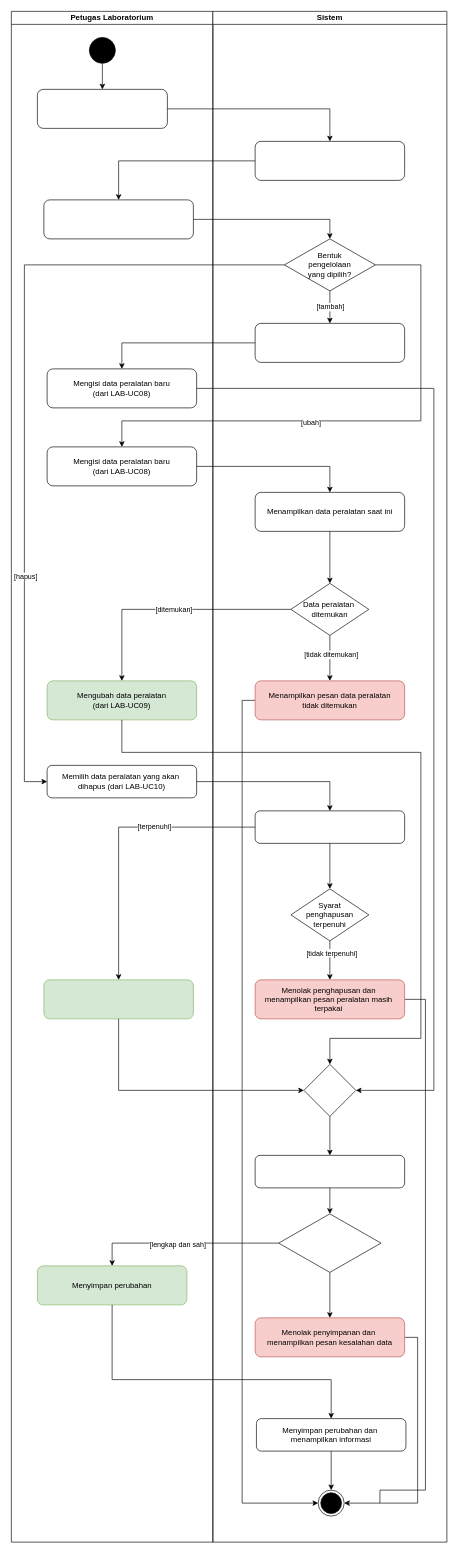
Some shapes in this 458 by 1554 pixel diagram are drawn without their labels. The centre of each missing label's shape, as x and y in pixels:
"Data lengkap dan sah?" belongs at point (329, 1242).
"Membuka fungsi Kelola data peralatan" belongs at point (102, 108).
"Memeriksa kelengkapan dan keabsahan data" belongs at point (329, 1171).
"Memeriksa peralatan tidak sedang dipinjam dan tidak memiliki pengajuan aktif" belongs at point (329, 826).
"Memilih bentuk pengelolaan (tambah, ubah, atau hapus)" belongs at point (118, 219).
"Menampilkan daftar peralatan" belongs at point (329, 160).
"Menampilkan formulir data peralatan baru" belongs at point (329, 342).
"Mengonfirmasi penghapusan (dari LAB-UC10)" belongs at point (118, 999).
